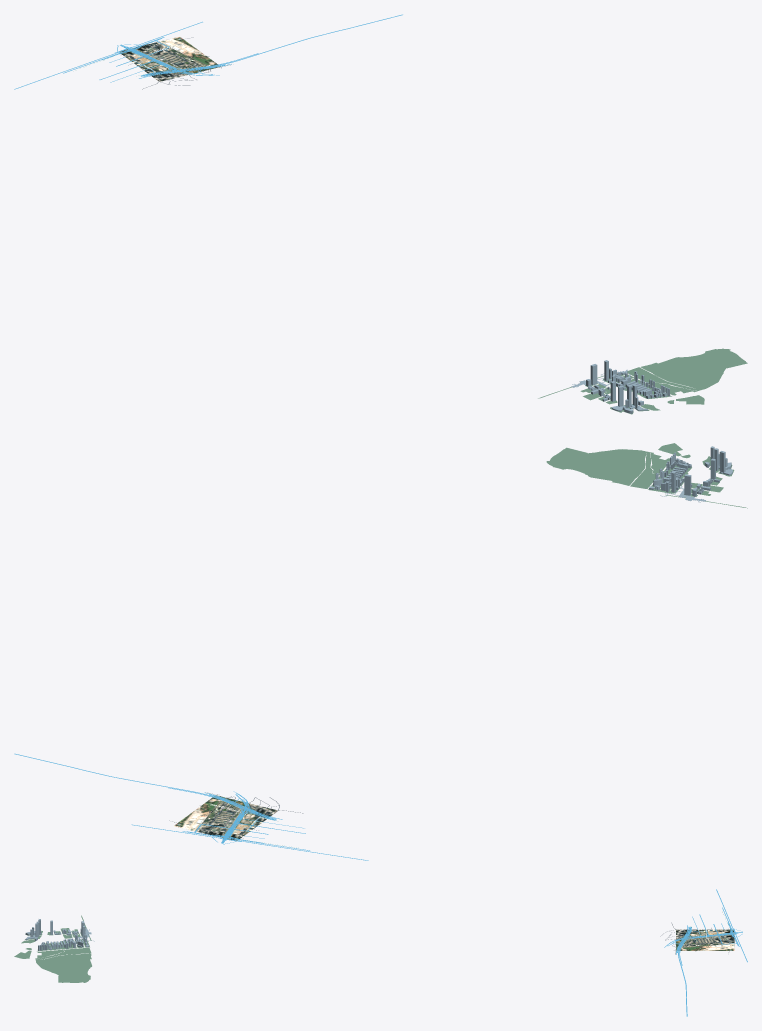
File: tianan_cyberpark.glb
3 views of the same model, one above another, from view 1: azimuth 30°, elevation 25°; view 2: azimuth 150°, elevation 25°; view 3: azimuth 270°, elevation 25° (orthographic). The views are drawn at different scales.
Parts seen in each view (by area): view 1: BlenderGIS_OSM_Areas, Satellite_Imagery_Georeferenced, Roads_Major; view 2: BlenderGIS_OSM_Areas, Satellite_Imagery_Georeferenced, Roads_Major; view 3: BlenderGIS_OSM_Areas, Satellite_Imagery_Georeferenced, Roads_Major.
Part boxes in pixels (left/top/right/bottom): BlenderGIS_OSM_Areas: left=538, top=348, right=747, bottom=414; Satellite_Imagery_Georeferenced: left=120, top=36, right=220, bottom=81; Roads_Major: left=14, top=14, right=402, bottom=89; BlenderGIS_OSM_Areas: left=546, top=443, right=747, bottom=508; Satellite_Imagery_Georeferenced: left=174, top=795, right=277, bottom=840; Roads_Major: left=14, top=753, right=368, bottom=860; BlenderGIS_OSM_Areas: left=14, top=915, right=94, bottom=982; Satellite_Imagery_Georeferenced: left=676, top=929, right=734, bottom=950; Roads_Major: left=664, top=889, right=747, bottom=1016.
Bounding box in the file's own units: 5511 × 293 × 13414.
Materials: 7 (1 with a texture image).
